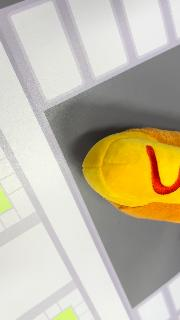hotdog: (81, 126, 179, 224)
